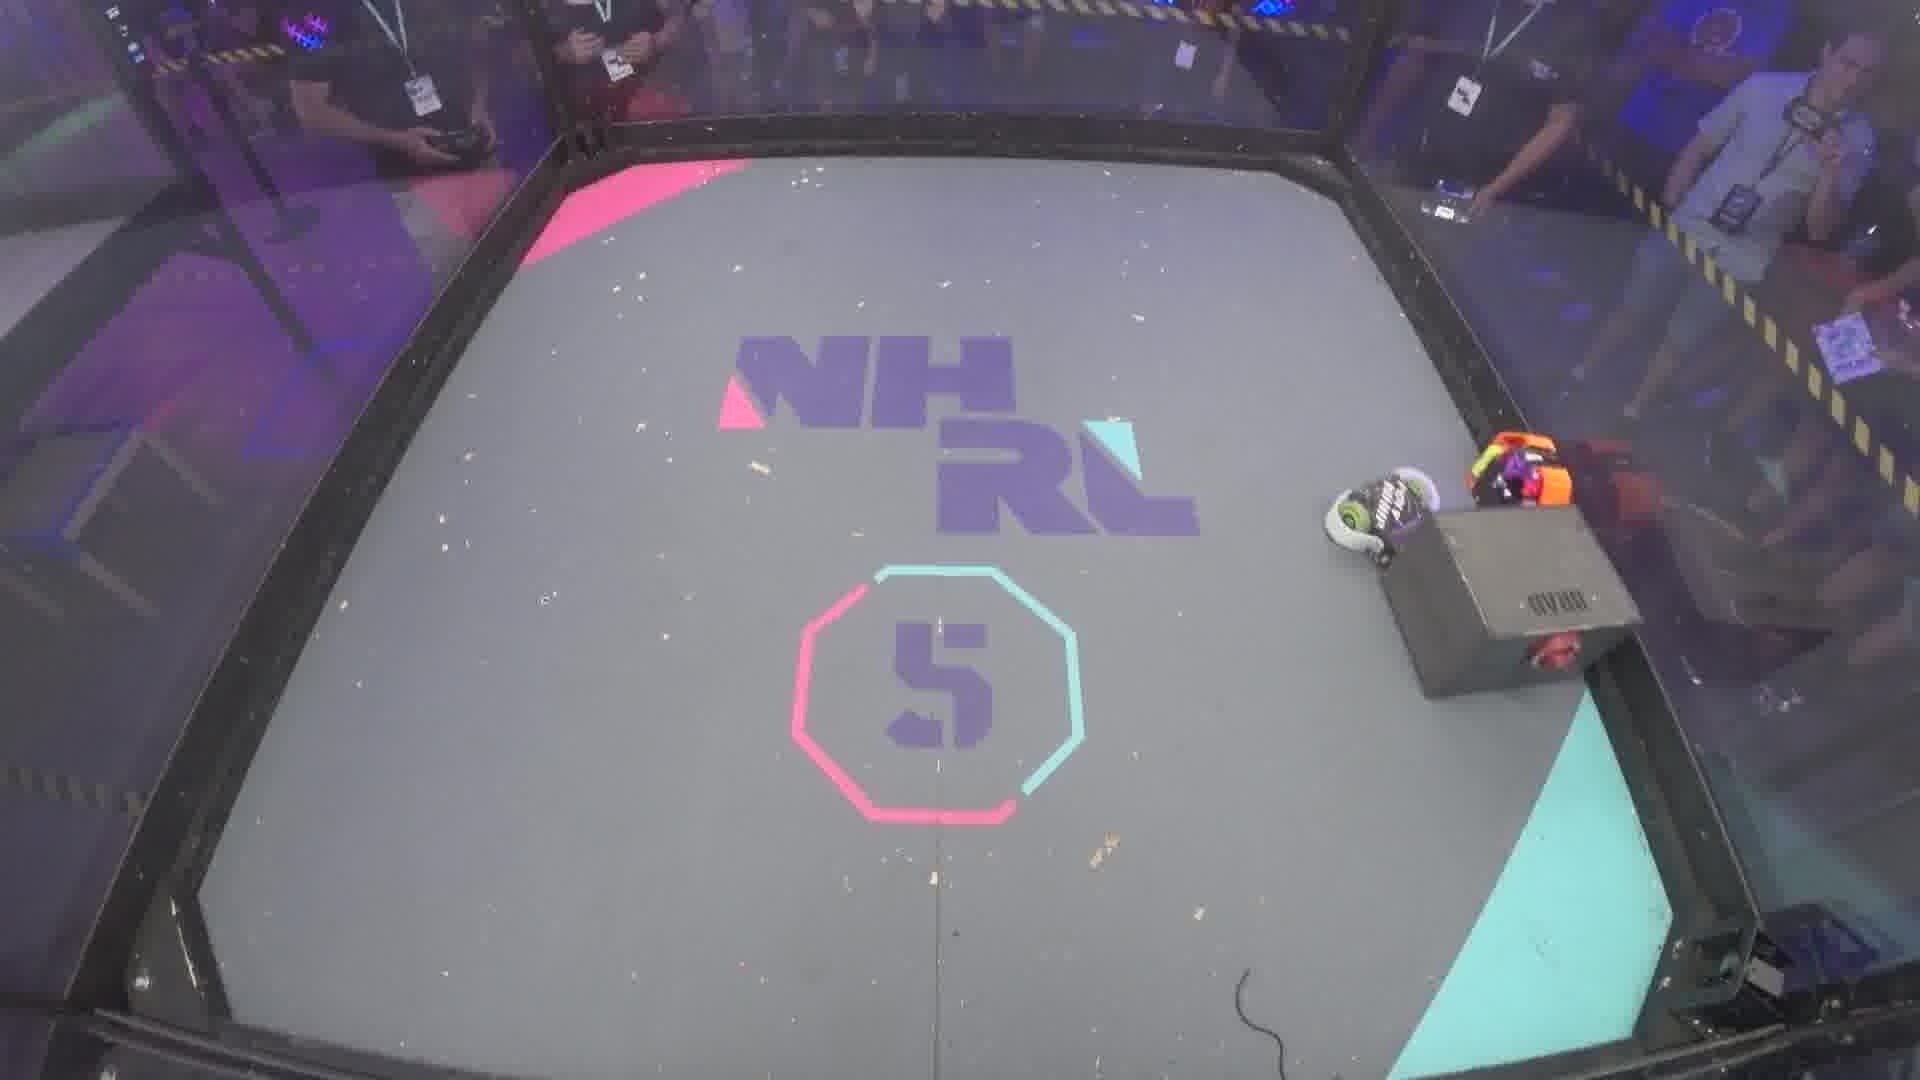belt: (1226, 969, 1287, 1077)
combatbot: (1323, 469, 1437, 564), (1461, 426, 1573, 510)
housebot: (1381, 508, 1639, 705)
